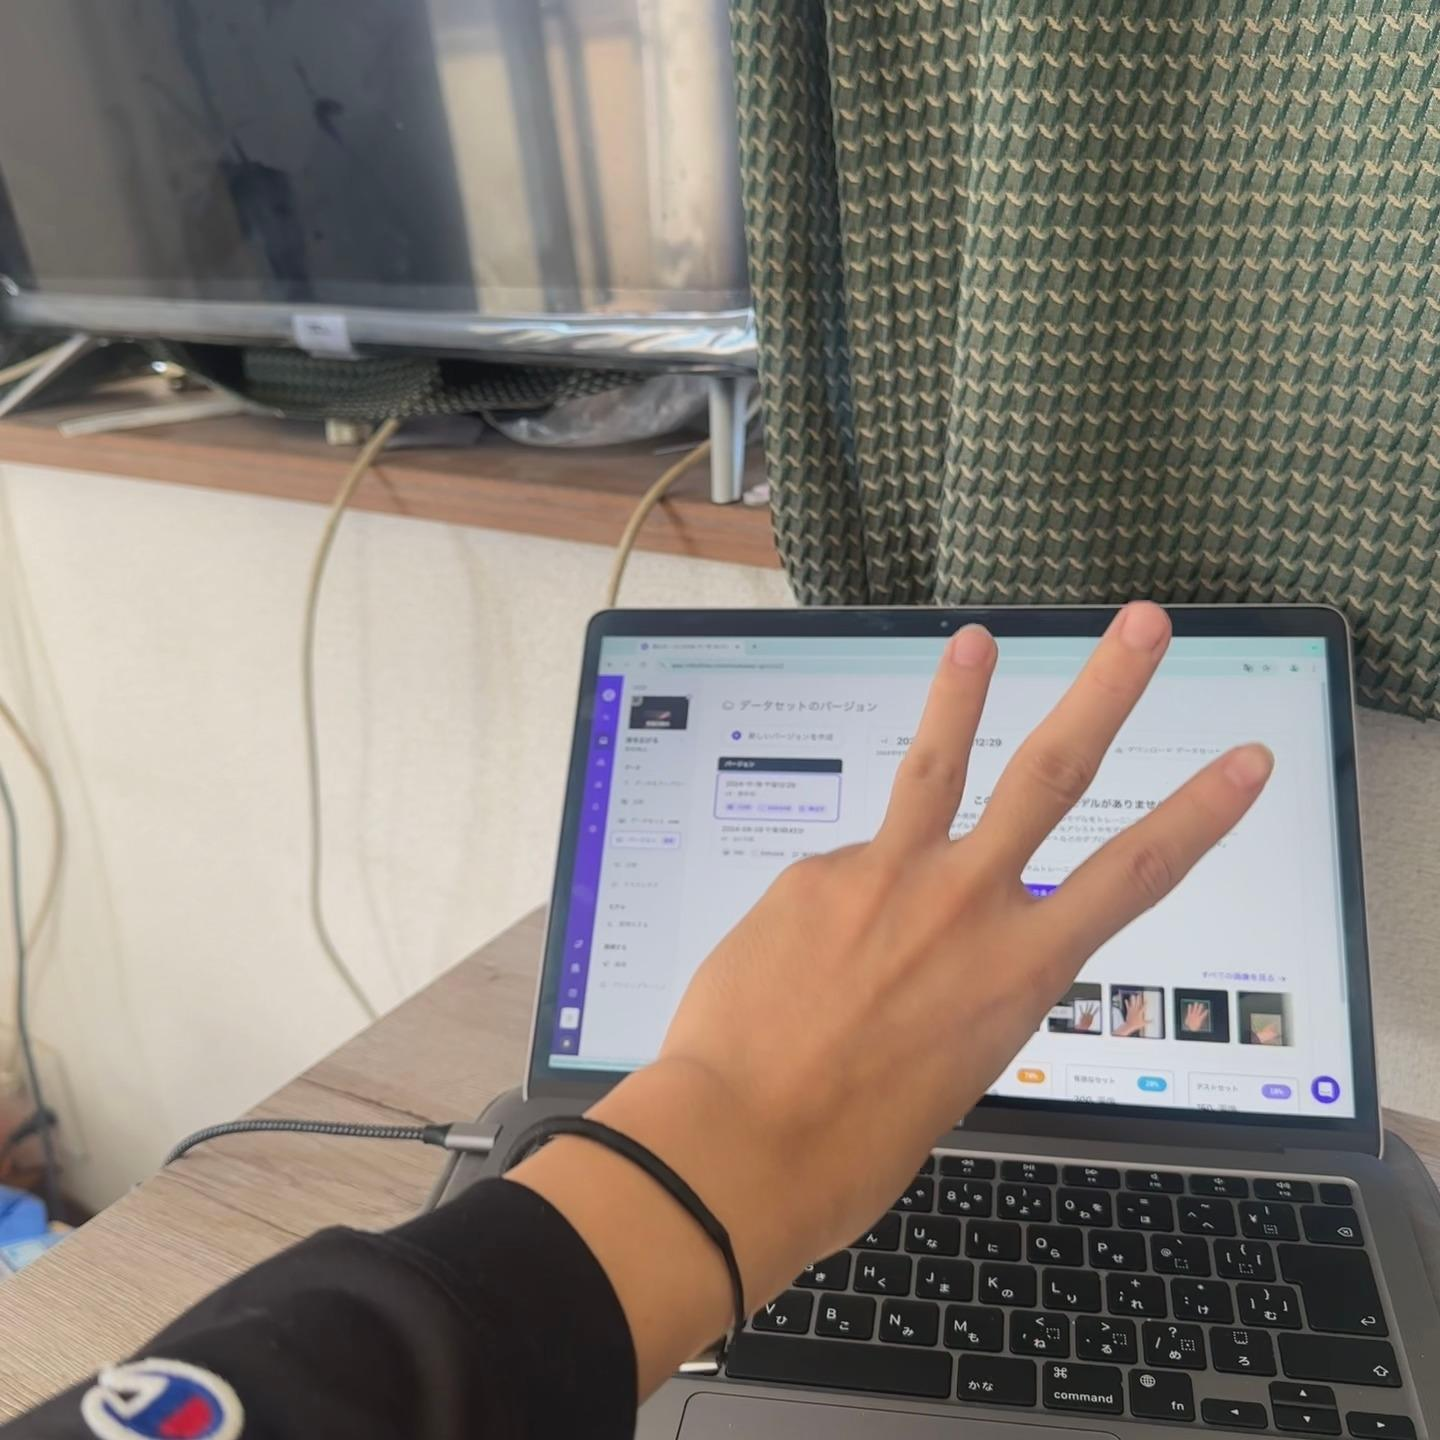without_gloves: (637, 575, 1366, 1358)
